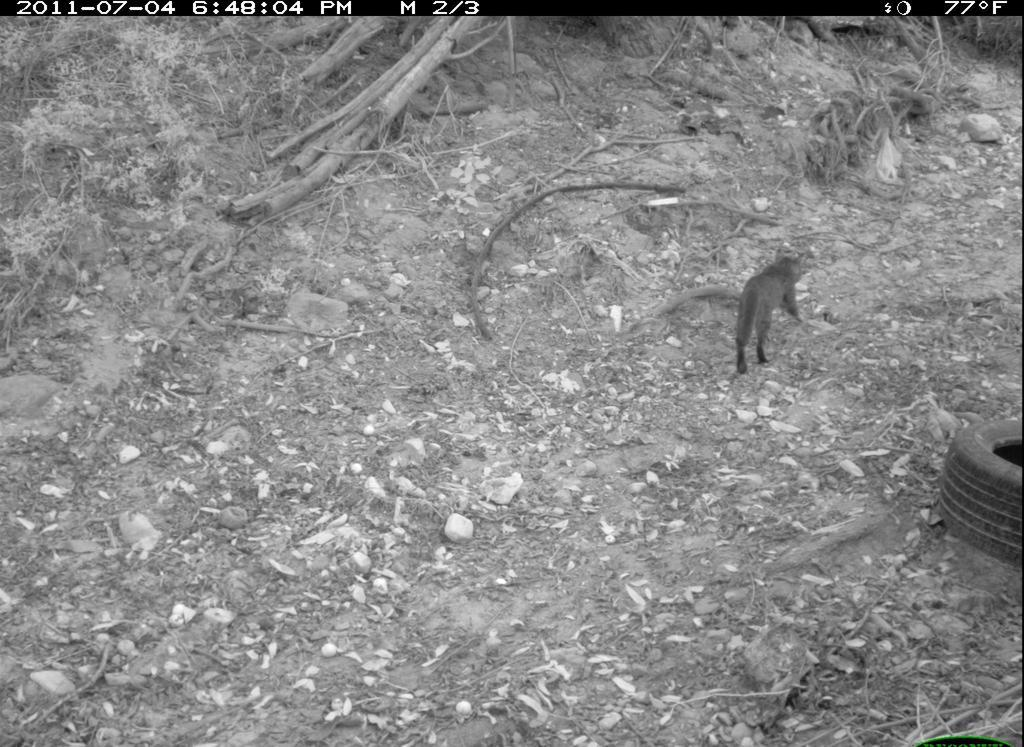cat: (719, 244, 818, 381)
